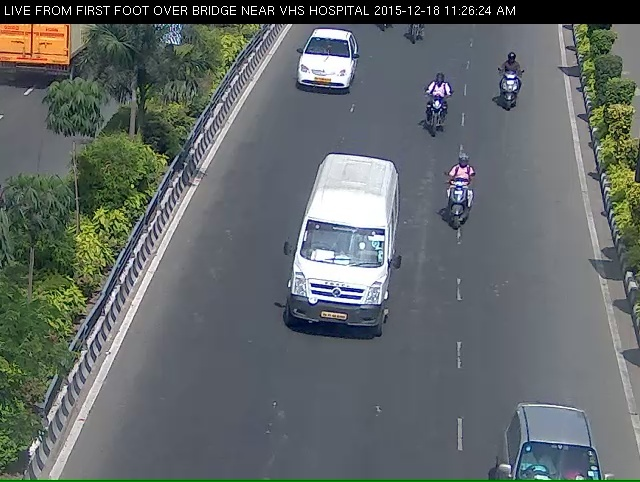Bus: (279, 168, 406, 377)
Car: (491, 402, 610, 479), (288, 33, 355, 107)
Person: (433, 162, 476, 246), (491, 59, 527, 123), (417, 80, 451, 138)
